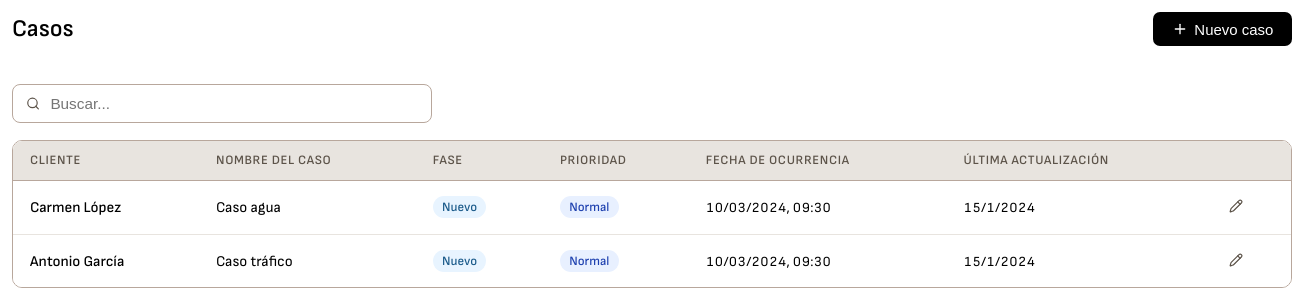
Cases list › filters by client name
Type "antonio" into the search field at (233, 104), box [48, 94, 418, 114]
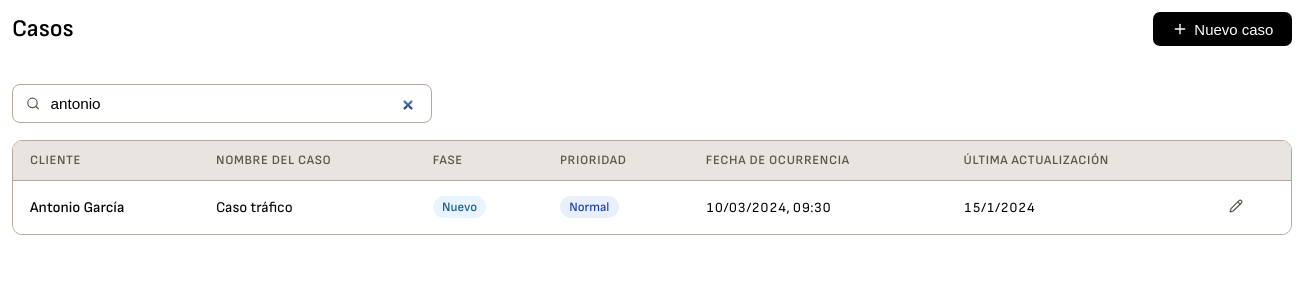
Expected: the text "Caso tráfico" is shown, [199, 180, 416, 234]
Now the text "Caso agua" is gone
